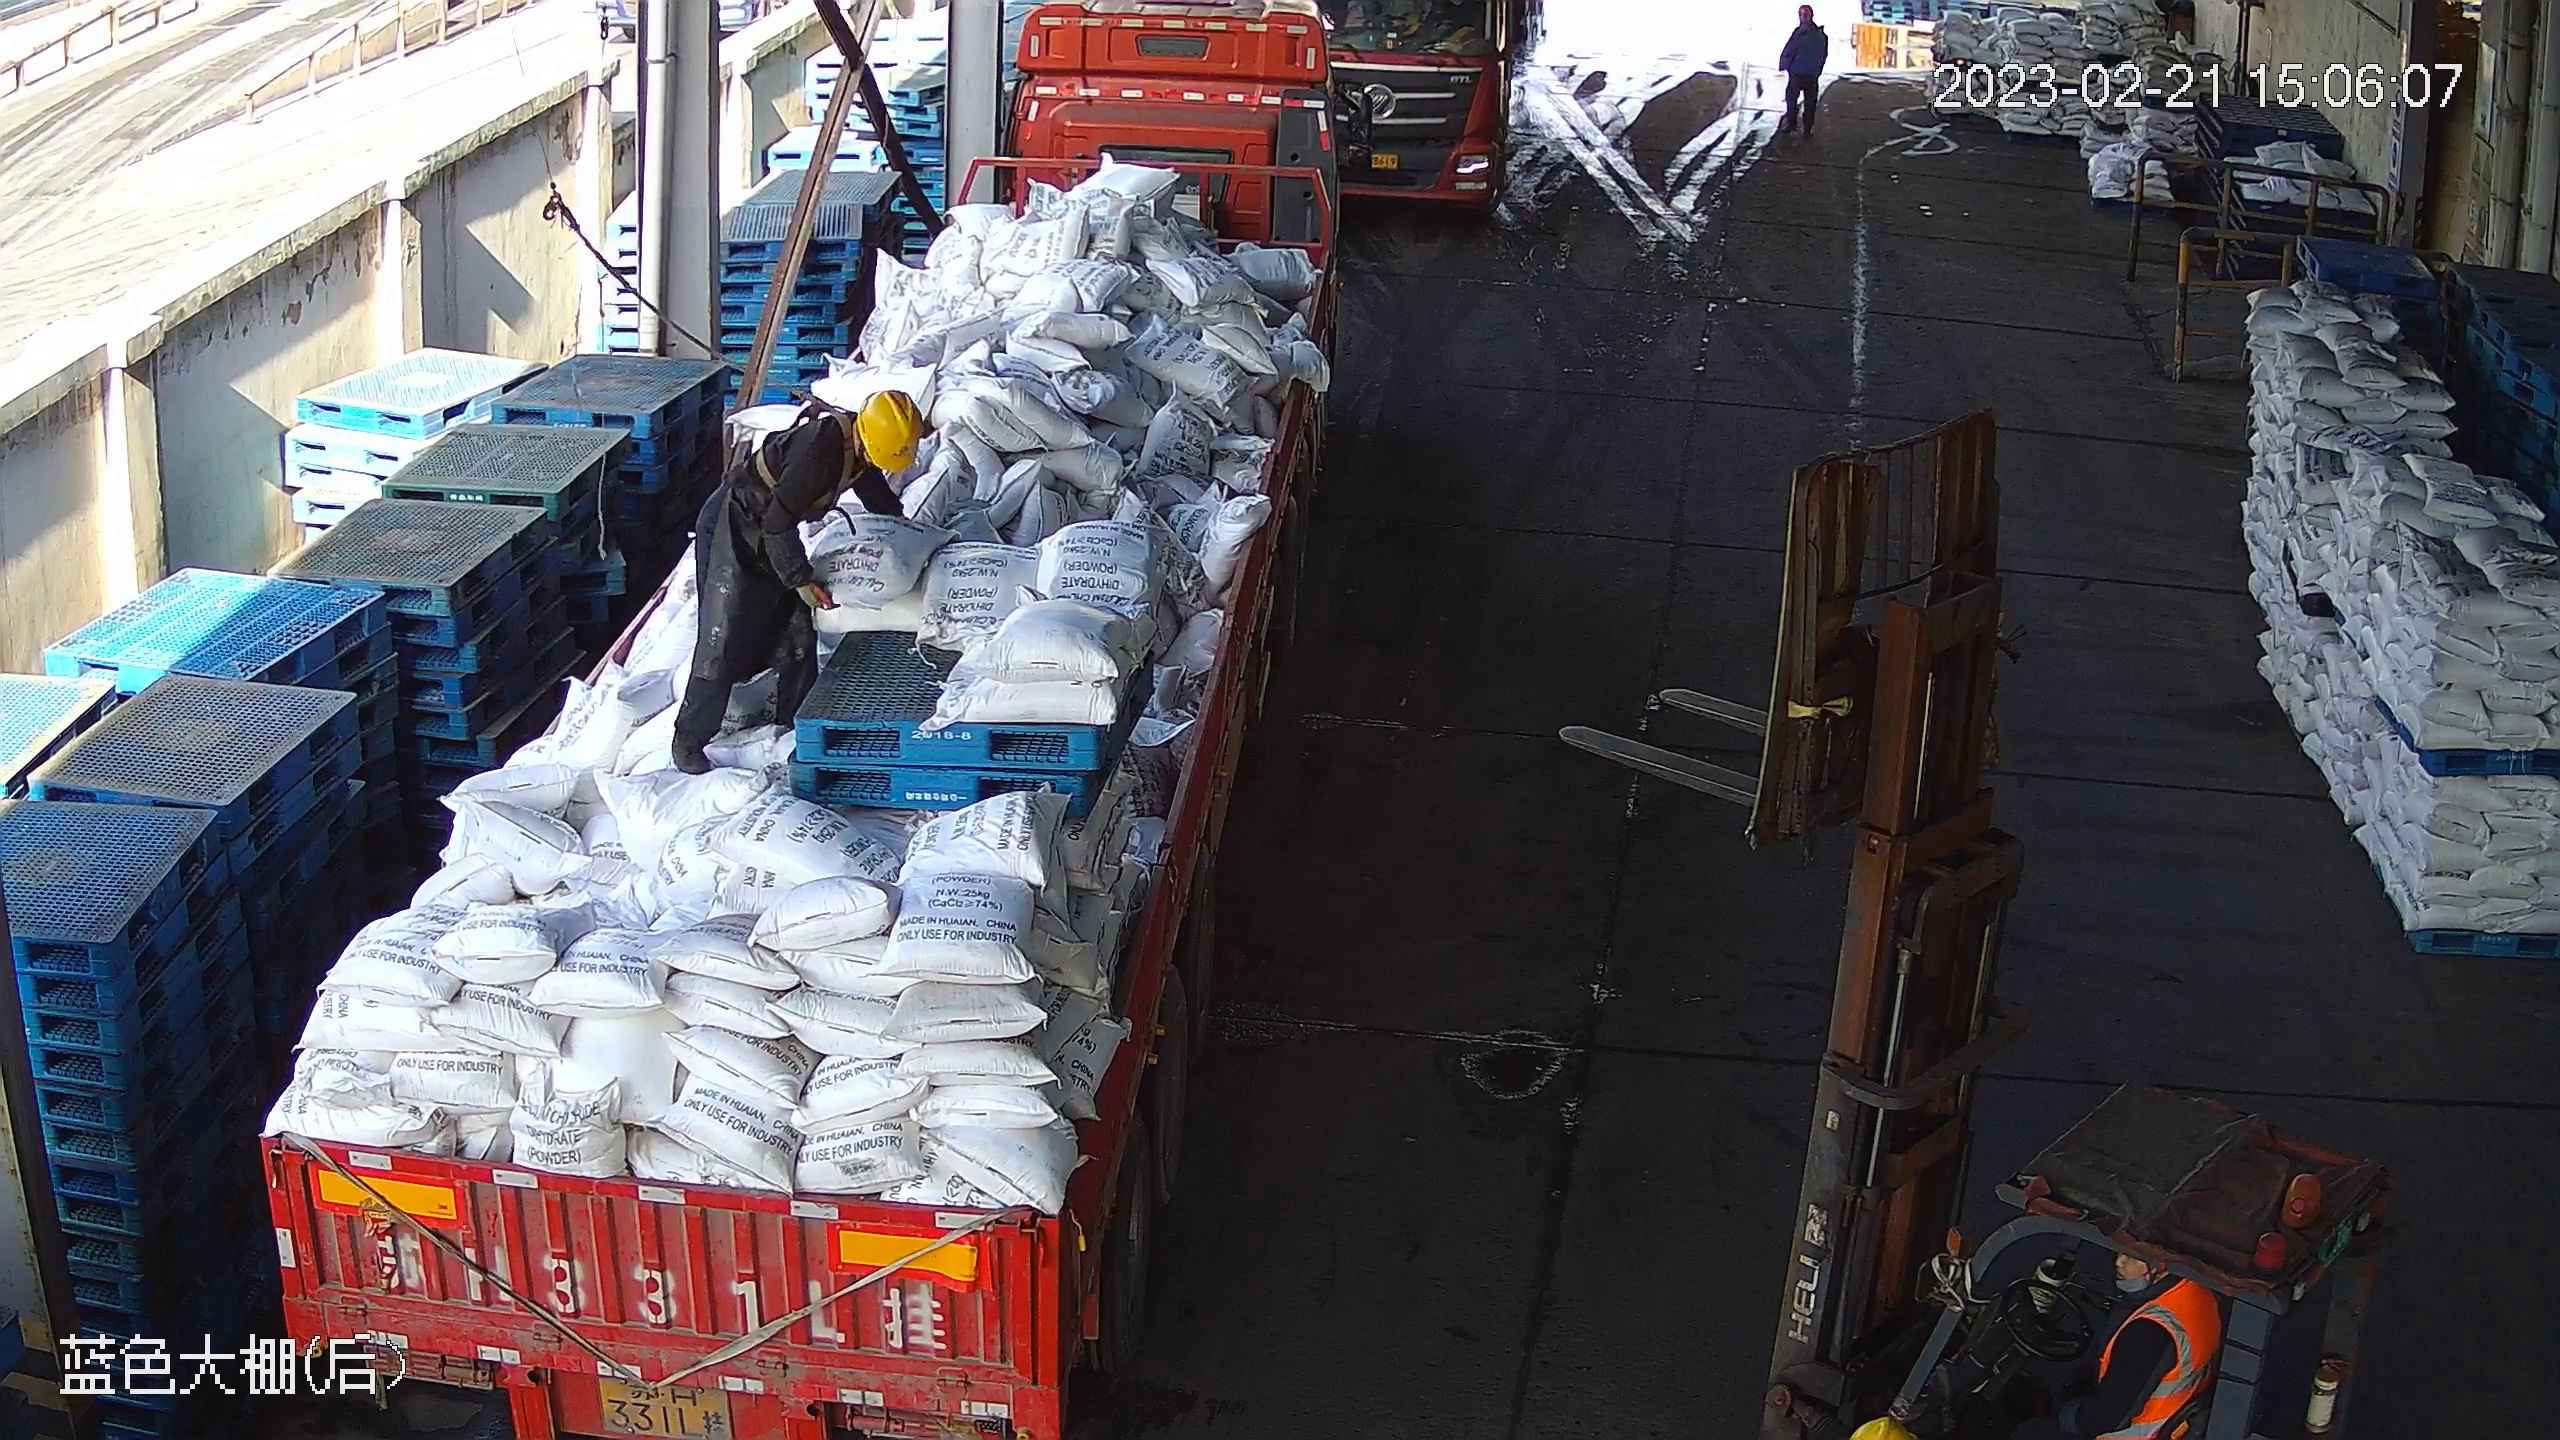head: (793, 384, 920, 520), (1781, 3, 1830, 51)
helmet: (857, 388, 917, 474), (1798, 4, 1813, 19)
people: (661, 388, 925, 774), (1776, 5, 1830, 144)
truck: (247, 1, 1379, 1437), (1317, 1, 1537, 220)
